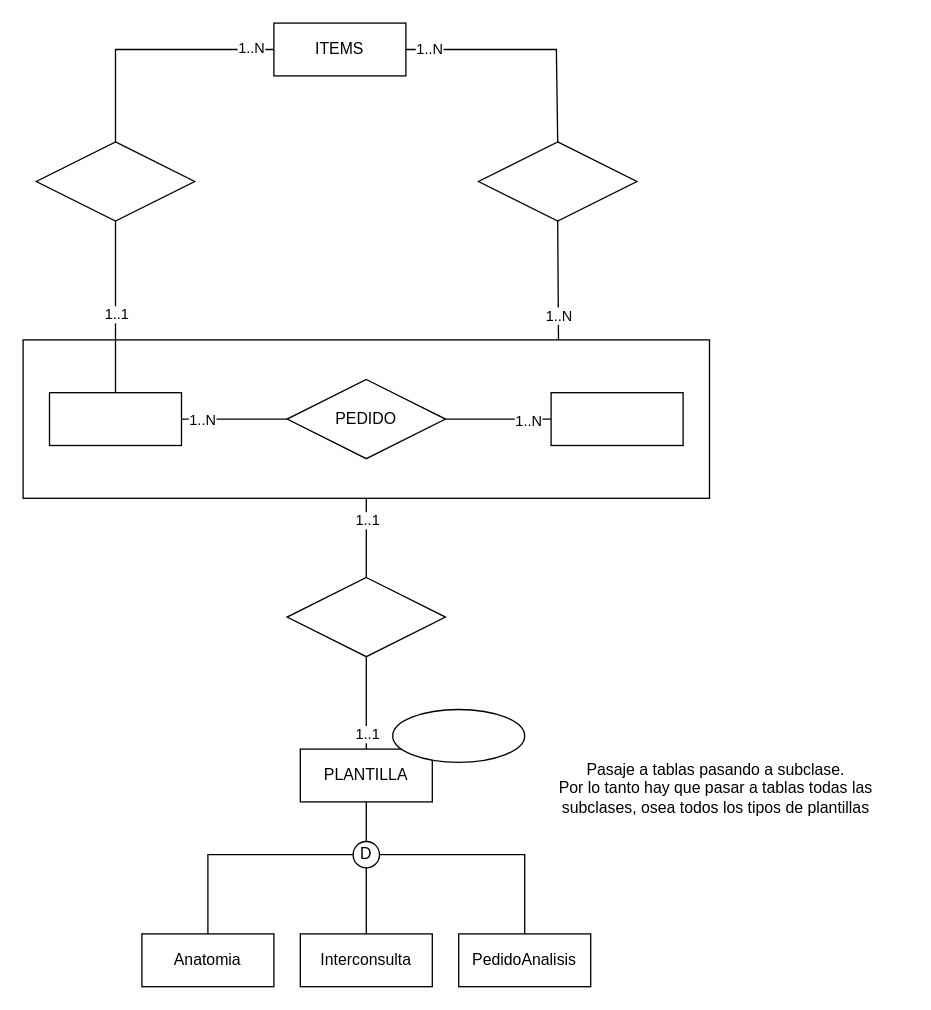
Image size: 931x1010. Some labels were removed from this diagram. Here are the shapes that lost their labels. From the top down, the box of each, then its label:
(477, 141, 637, 221): PEDIDOS_ITEMS
(48, 391, 182, 446): TIPOFORMULARIO
(550, 391, 683, 446): INTERNACIONES
(391, 708, 525, 762): idPlantilla +idPedido
